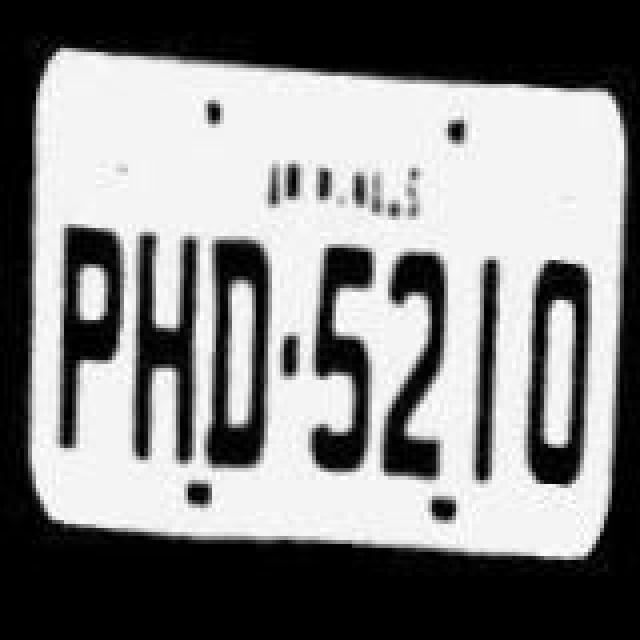1: (462, 234, 518, 486)
2: (374, 232, 462, 488)
5: (304, 234, 388, 490)
D: (202, 226, 282, 502)
H: (126, 212, 206, 488)
O: (510, 232, 598, 488)
P: (48, 212, 132, 484)
